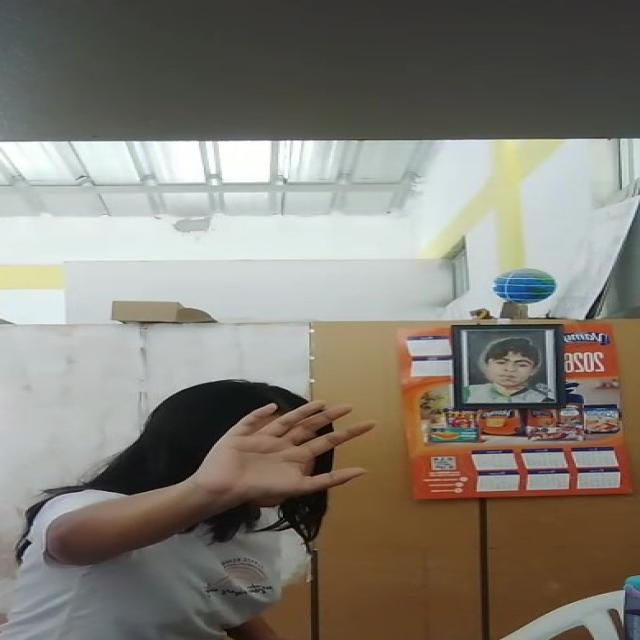7_mano_rostro: (196, 403, 324, 514)
